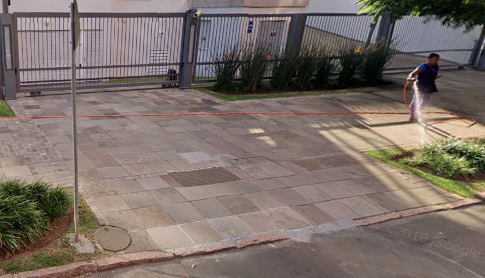vag24: (133, 163, 472, 273)
